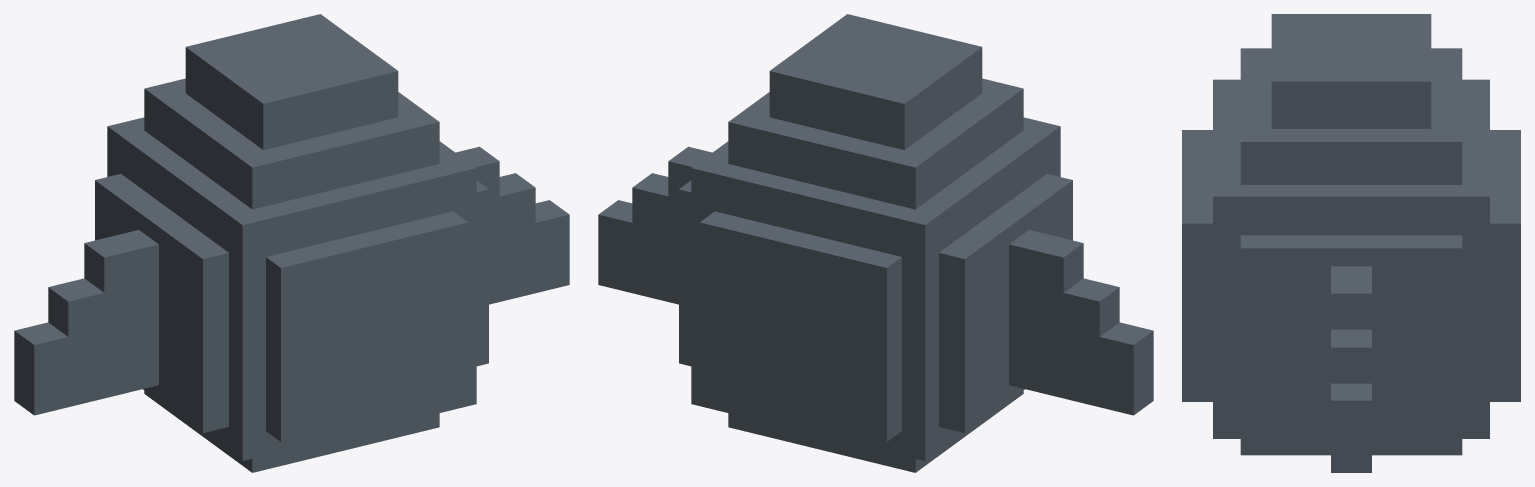
File: 53.Trippi Troppi.fbx
The picture shows the model from 3 angles, left to right: view 1: azimuth 30°, elevation 25°; view 2: azimuth 150°, elevation 25°; view 3: azimuth 270°, elevation 25°; orthographic projection. The views are drawn at different scales.
Visible parts, largest first — view 1: Trippi_Troppi; view 2: Trippi_Troppi; view 3: Trippi_Troppi.
Part boxes in pixels (x1=…): Trippi_Troppi: x1=14, y1=14, x2=569, y2=472; Trippi_Troppi: x1=598, y1=14, x2=1153, y2=472; Trippi_Troppi: x1=1182, y1=14, x2=1520, y2=472.
Size of the model in its own units: 5.4 by 3.39 by 2.89.
